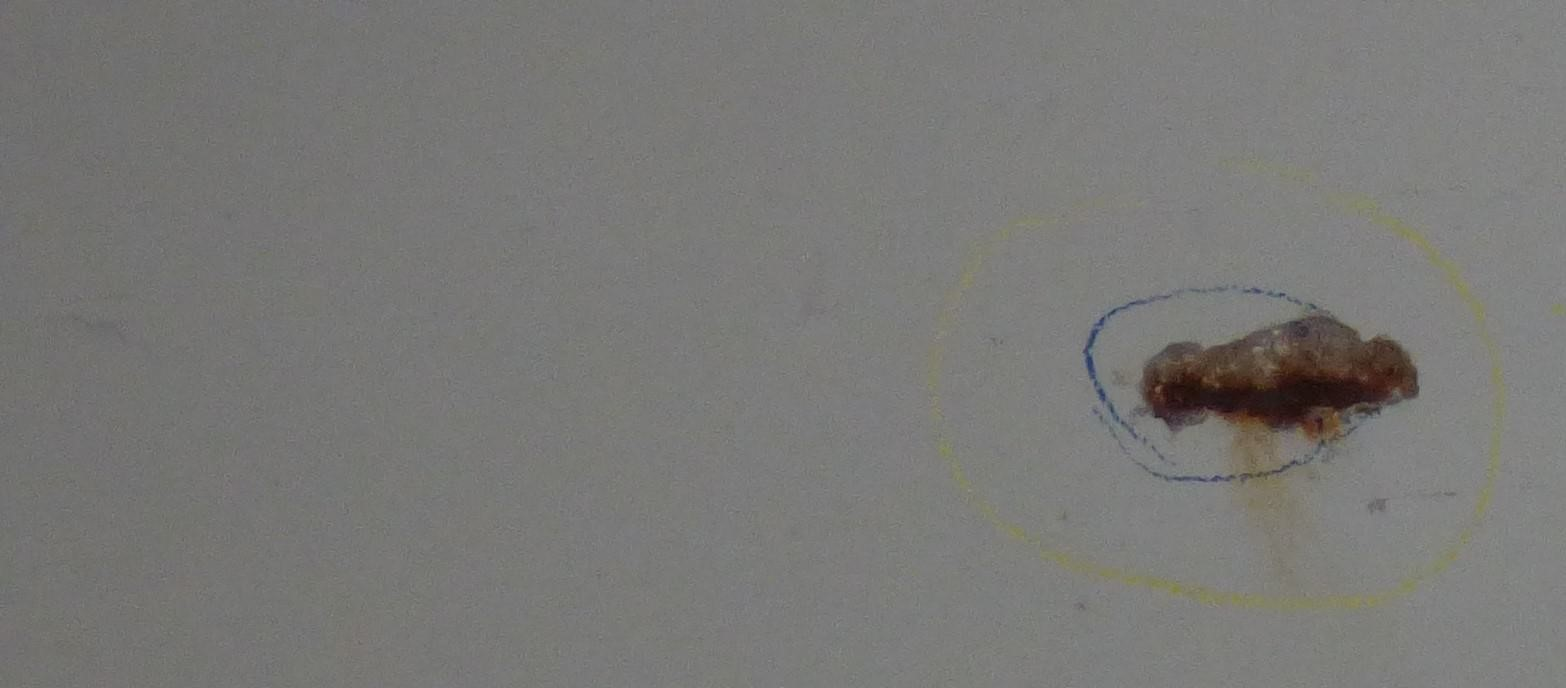Exposed reinforcement: (1162, 375, 1363, 412)
Spalling: (1134, 312, 1421, 439)
